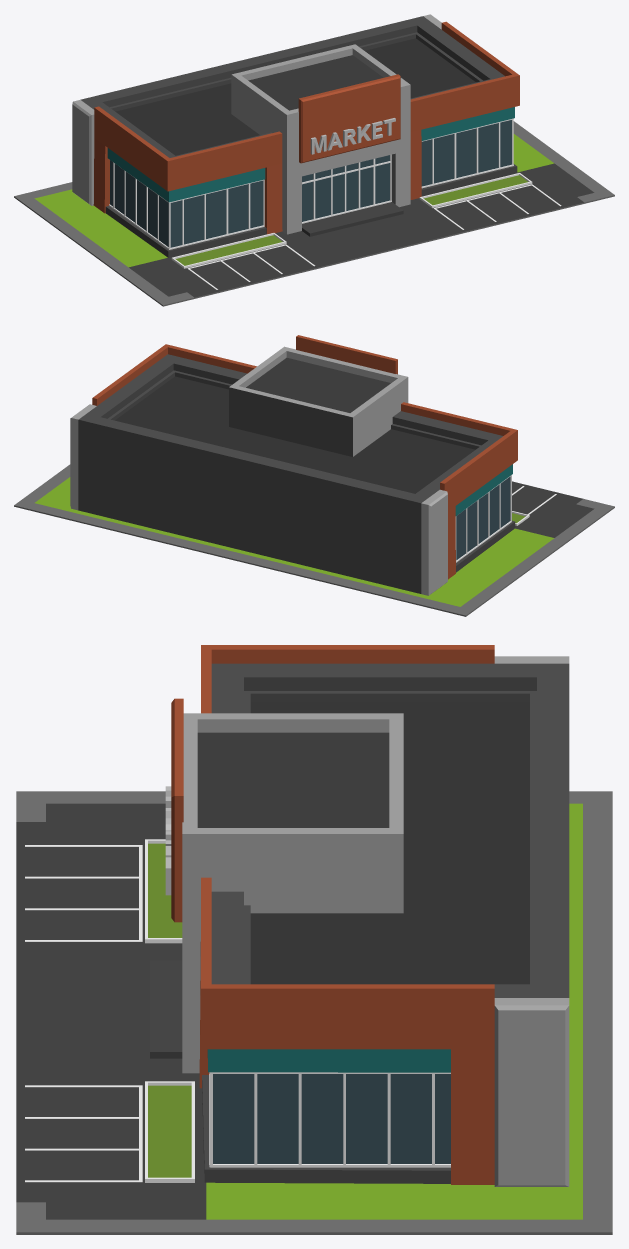
File: supermarket-a.glb
3 renders of one model, top to bottom at view 1: azimuth 30°, elevation 25°; view 2: azimuth 150°, elevation 25°; view 3: azimuth 270°, elevation 25°, orthographic. The views are drawn at different scales.
Visible parts, largest first — view 1: supermarket_a; view 2: supermarket_a; view 3: supermarket_a.
Boxes of the visible parts, x1,y1,x2,y2 form: supermarket_a: (14,14,614,306); supermarket_a: (14,335,614,616); supermarket_a: (16,645,612,1234).
Size of the model in its own units: 35 by 9.93 by 20.
1 material, 1 textured.
